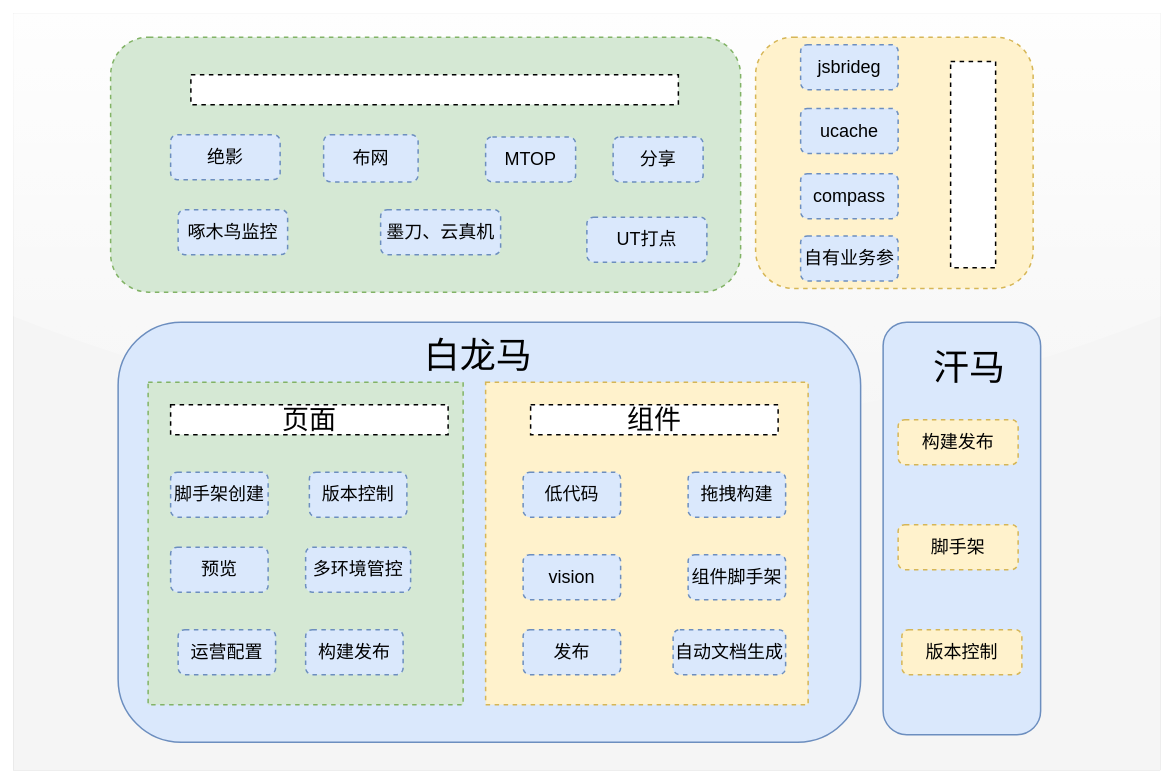
This 1173x783 diagram has some shape labels left out. The centre of each missing label's shape, as x and y in pixels:
基础研发工具: (434,89)
端特性结合: (973,164)
